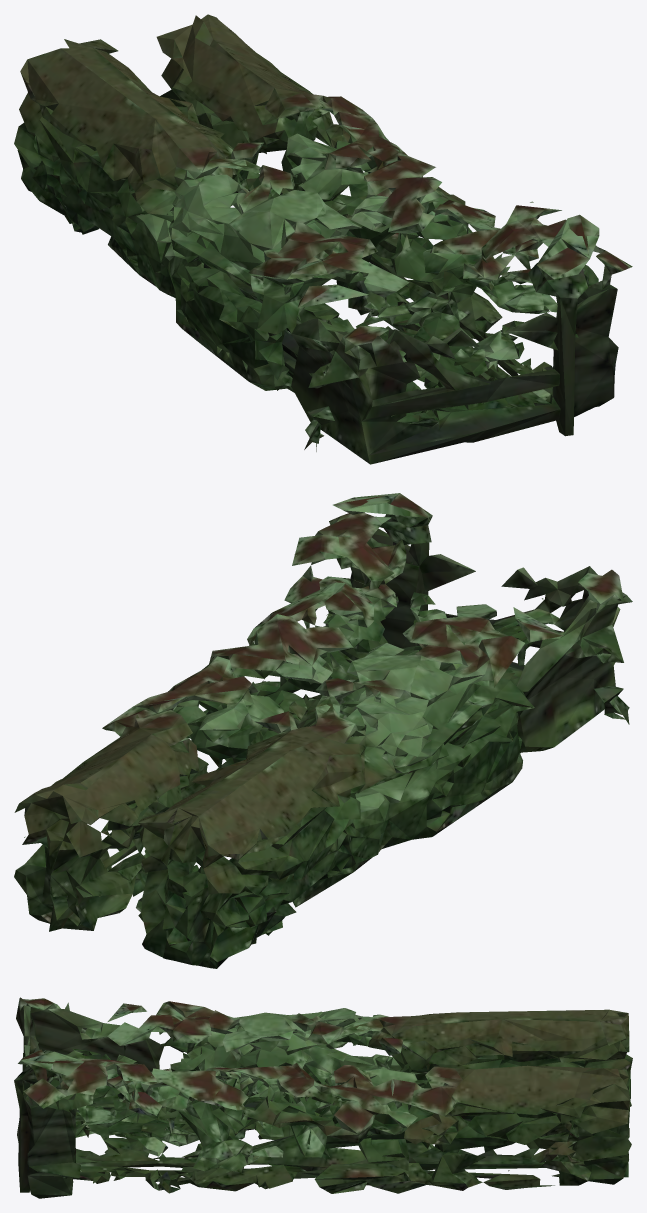
File: bog_flowers_01.glb
3 views of the same model, one above another, from view 1: azimuth 30°, elevation 25°; view 2: azimuth 150°, elevation 25°; view 3: azimuth 270°, elevation 25° (orthographic). The views are drawn at different scales.
Parts seen in each view (by area): view 1: geometry_0; view 2: geometry_0; view 3: geometry_0.
Boxes of the visible parts, x1,y1,x2,y2 form: geometry_0: (14, 14, 632, 464); geometry_0: (14, 493, 632, 968); geometry_0: (14, 997, 632, 1198).
Bounding box in the file's own units: 0.4734 × 0.2617 × 0.9995.
Materials: 1 (1 with a texture image).
